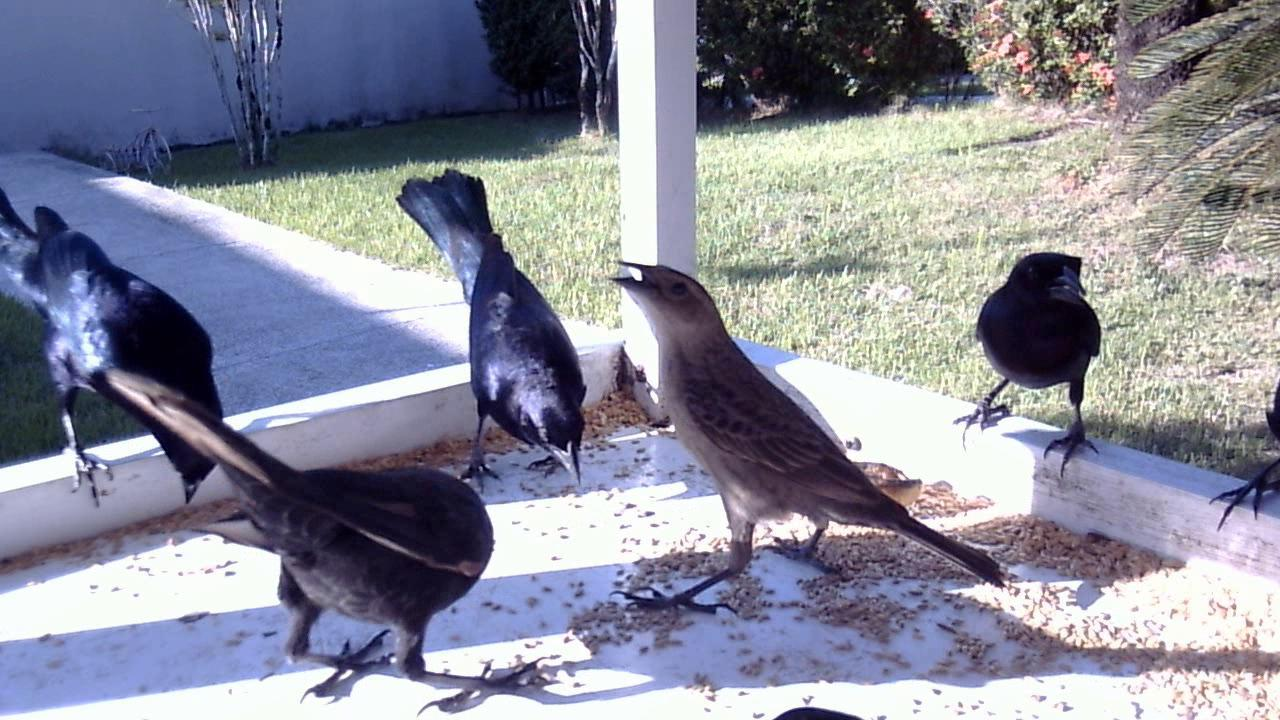chupim: (100, 362, 566, 720), (597, 264, 1021, 627), (1, 174, 227, 513), (381, 165, 595, 504), (945, 245, 1111, 485)
